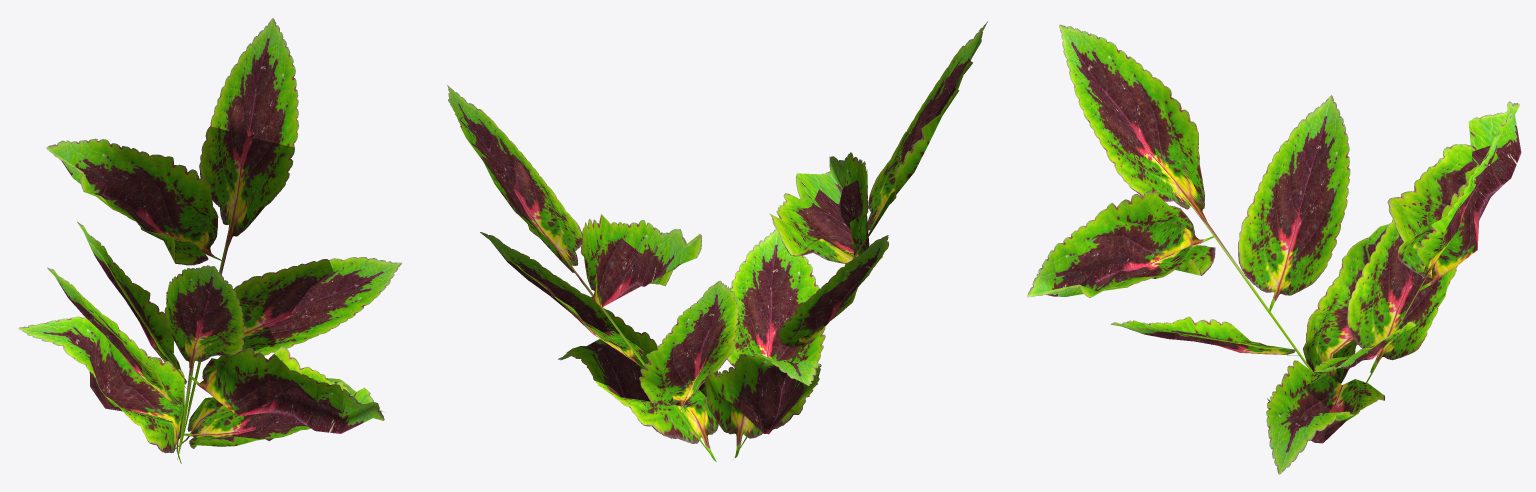
File: PLANTA_002.fbx
3 renders of one model, left to right at view 1: azimuth 30°, elevation 25°; view 2: azimuth 150°, elevation 25°; view 3: azimuth 270°, elevation 25°, orthographic. The views are drawn at different scales.
Visible parts, largest first — view 1: pPlane9; view 2: pPlane9; view 3: pPlane9.
Boxes of the visible parts, x1,y1,x2,y2 form: pPlane9: (18,18,401,463); pPlane9: (447,21,987,461); pPlane9: (1027,24,1521,474).
Size of the model in its own units: 306 by 294 by 344.
